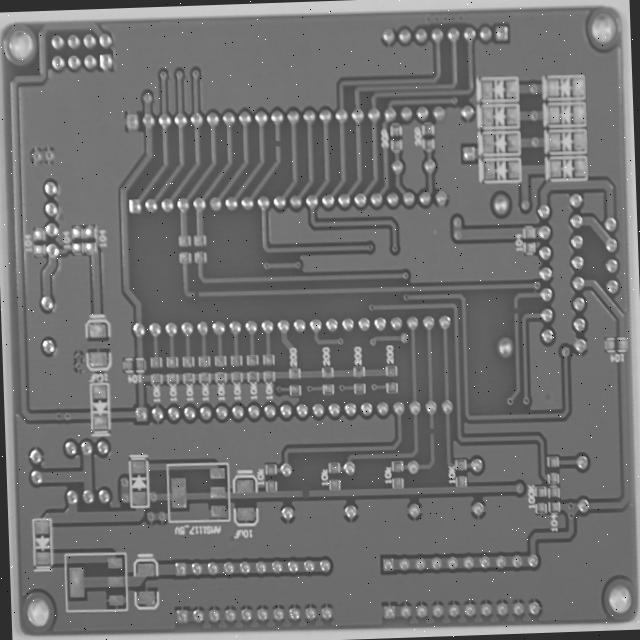open_circuit: (320, 545, 336, 562), (293, 152, 304, 168), (549, 342, 560, 357), (460, 476, 470, 491), (205, 322, 216, 335)
